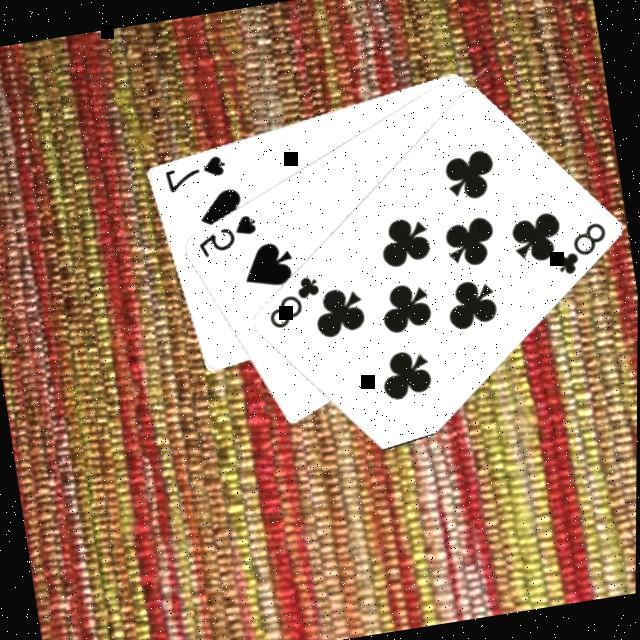5S: (190, 212, 262, 264)
7S: (158, 152, 230, 198)
8C: (259, 272, 327, 336), (546, 219, 614, 282)
